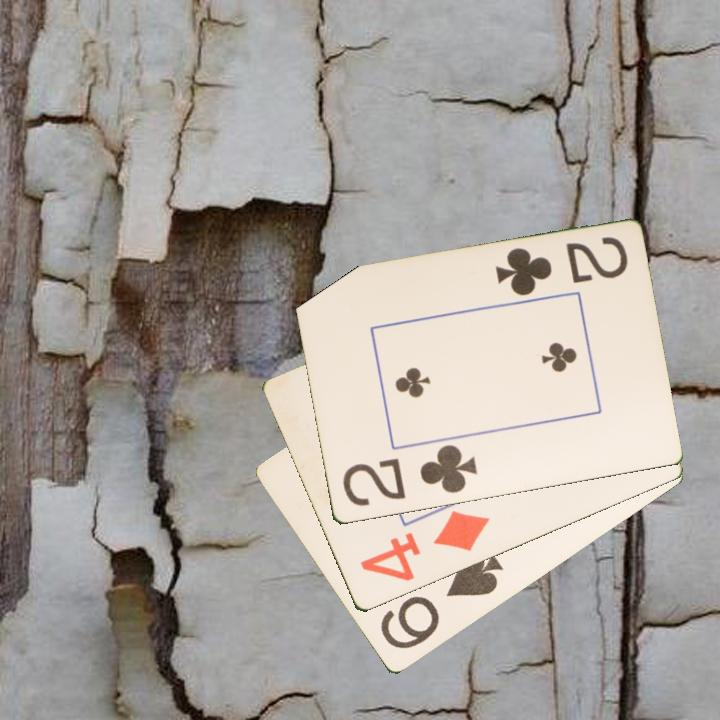2c: (339, 441, 480, 510), (491, 233, 631, 300)
4d: (356, 507, 493, 585)
6s: (376, 550, 506, 653)
